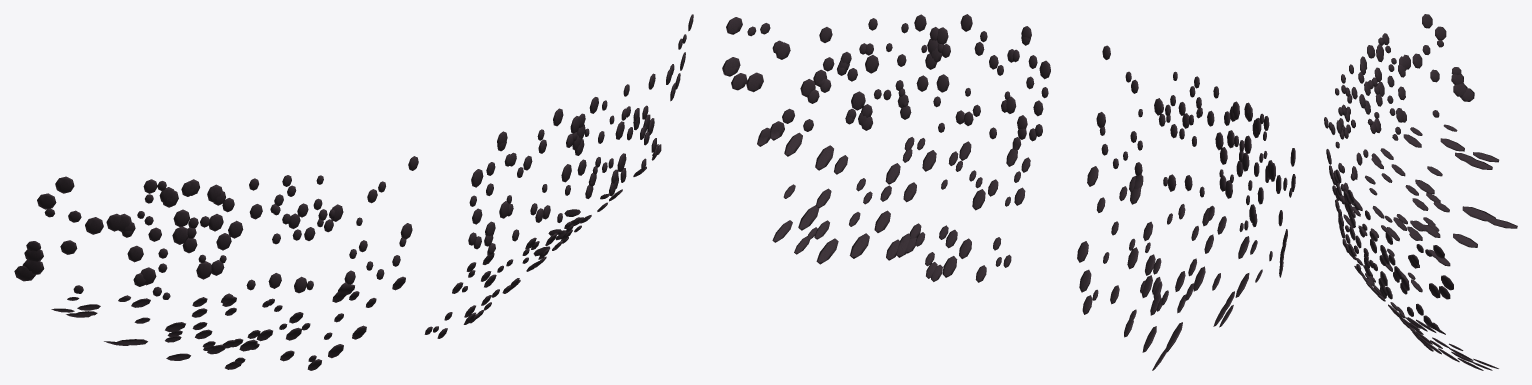
The model's file is facial_sheet_stubble_default.gltf.
3 renders of one model, left to right at view 1: azimuth 30°, elevation 25°; view 2: azimuth 150°, elevation 25°; view 3: azimuth 270°, elevation 25°, orthographic. The views are drawn at different scales.
Visible parts, largest first — view 1: Stubble; view 2: Stubble; view 3: Stubble.
Part boxes in pixels (bbox=[...]): Stubble: bbox=[14, 14, 693, 370]; Stubble: bbox=[722, 14, 1295, 370]; Stubble: bbox=[1324, 14, 1517, 370].
Bounding box in the file's own units: 0.3527 × 0.1318 × 0.1198.
Materials: 1 (1 with a texture image).
